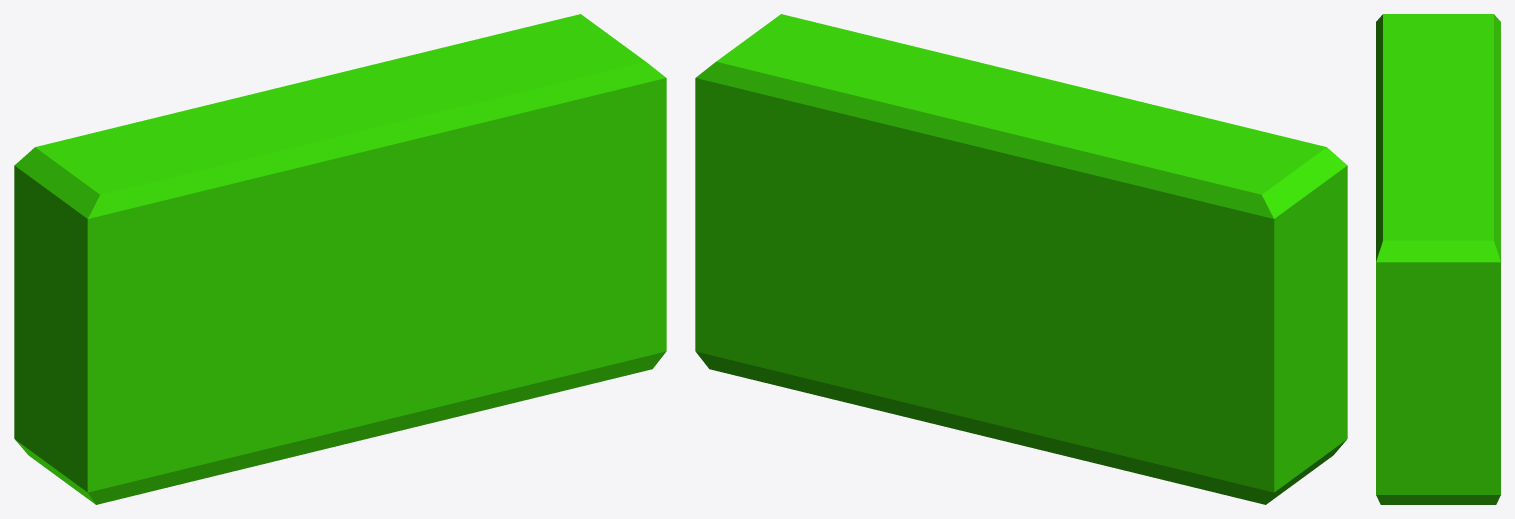
Rendered from Stone_hecke.fbx.
The picture shows the model from 3 angles, left to right: view 1: azimuth 30°, elevation 25°; view 2: azimuth 150°, elevation 25°; view 3: azimuth 270°, elevation 25°; orthographic projection. The views are drawn at different scales.
Visible parts, largest first — view 1: Stone_Hecke; view 2: Stone_Hecke; view 3: Stone_Hecke.
Boxes of the visible parts, bbox=[...] form: Stone_Hecke: bbox=[14, 14, 666, 504]; Stone_Hecke: bbox=[695, 14, 1347, 504]; Stone_Hecke: bbox=[1376, 14, 1500, 504].
Bounding box in the file's own units: 393 × 200 × 86.35.
